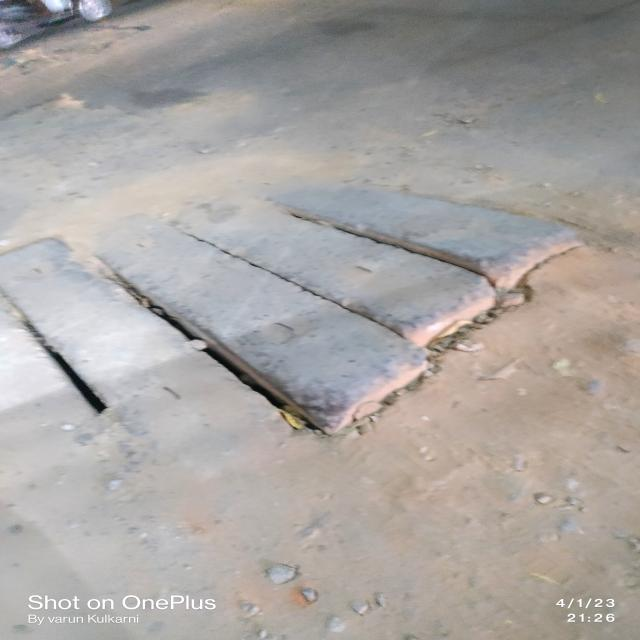manhole: (0, 188, 588, 458)
